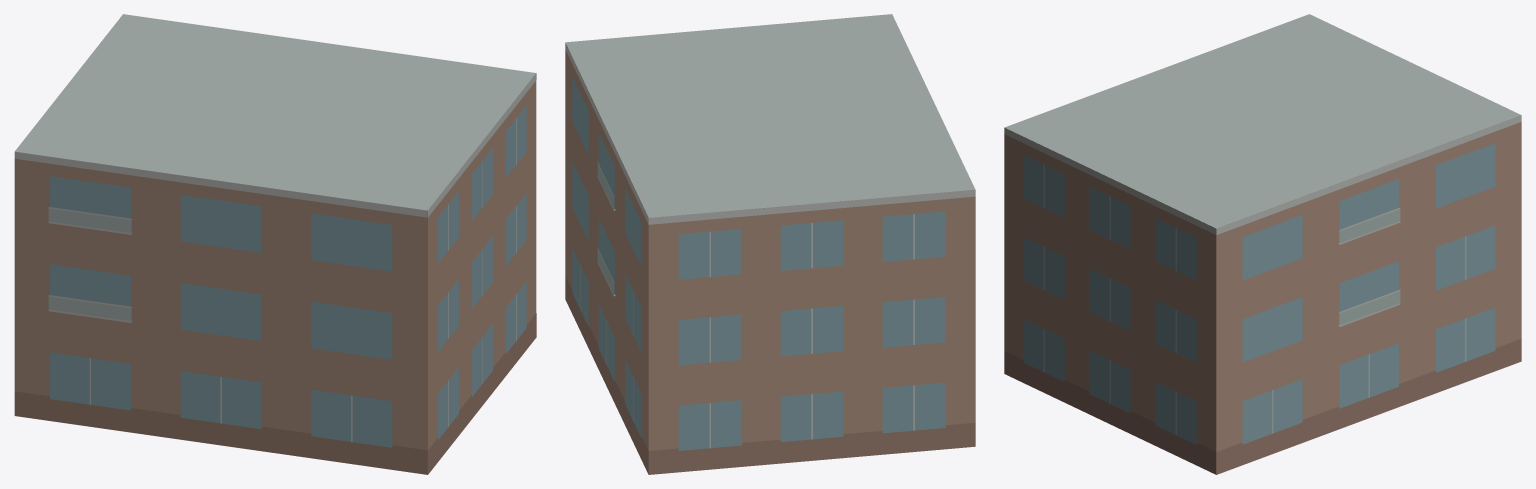
File: survey-upis-32778470.glb
3 renders of one model, left to right at view 1: azimuth 30°, elevation 25°; view 2: azimuth 150°, elevation 25°; view 3: azimuth 270°, elevation 25°, orthographic. The views are drawn at different scales.
Visible parts, largest first — view 1: survey-upis-32778470.tmp; view 2: survey-upis-32778470.tmp; view 3: survey-upis-32778470.tmp.
Boxes of the visible parts, box(x1,y1,x2,y2) form: survey-upis-32778470.tmp: box(14, 14, 536, 474); survey-upis-32778470.tmp: box(565, 14, 975, 474); survey-upis-32778470.tmp: box(1004, 14, 1521, 474).
Bounding box in the file's own units: 17.11 × 9.15 × 17.43.
